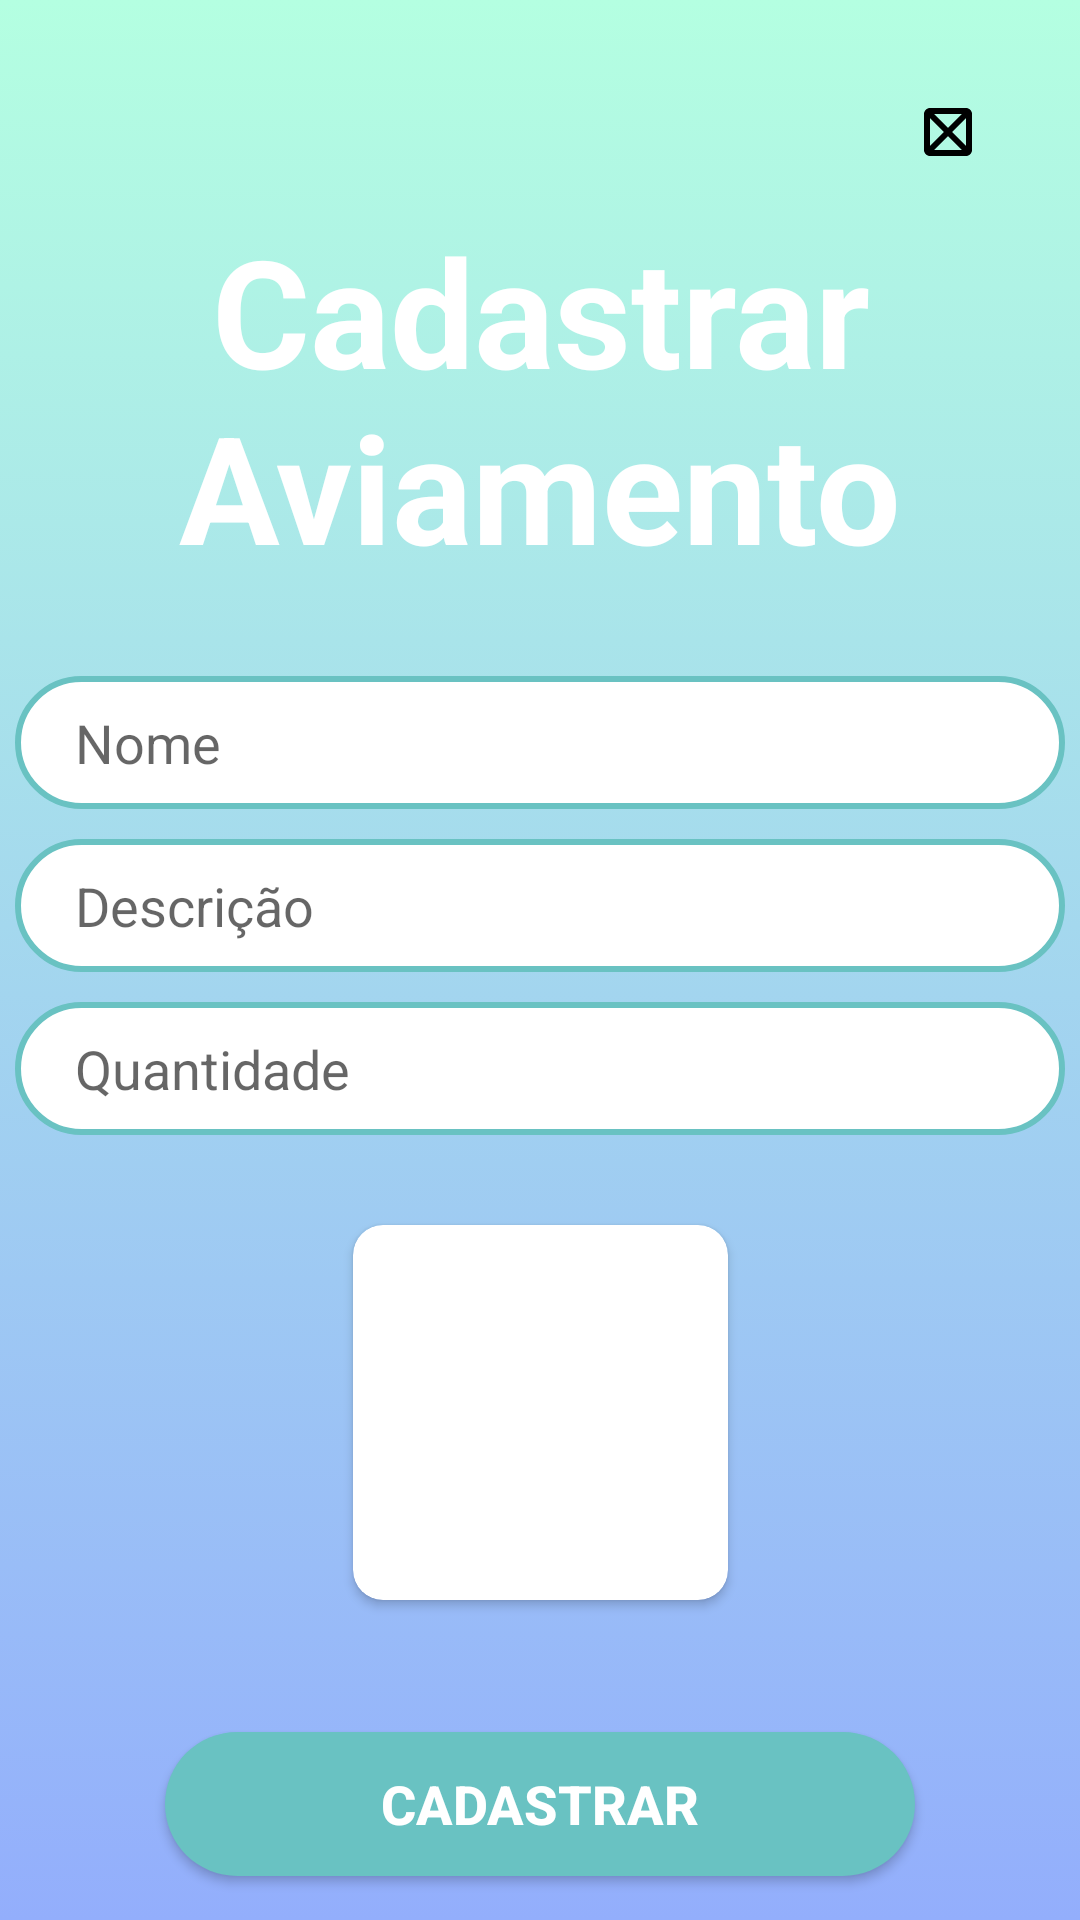

Where icons sit on this 1080 × 1920 app screen, as (x1, y1, x2, y2):
close: (924, 108, 972, 156)
